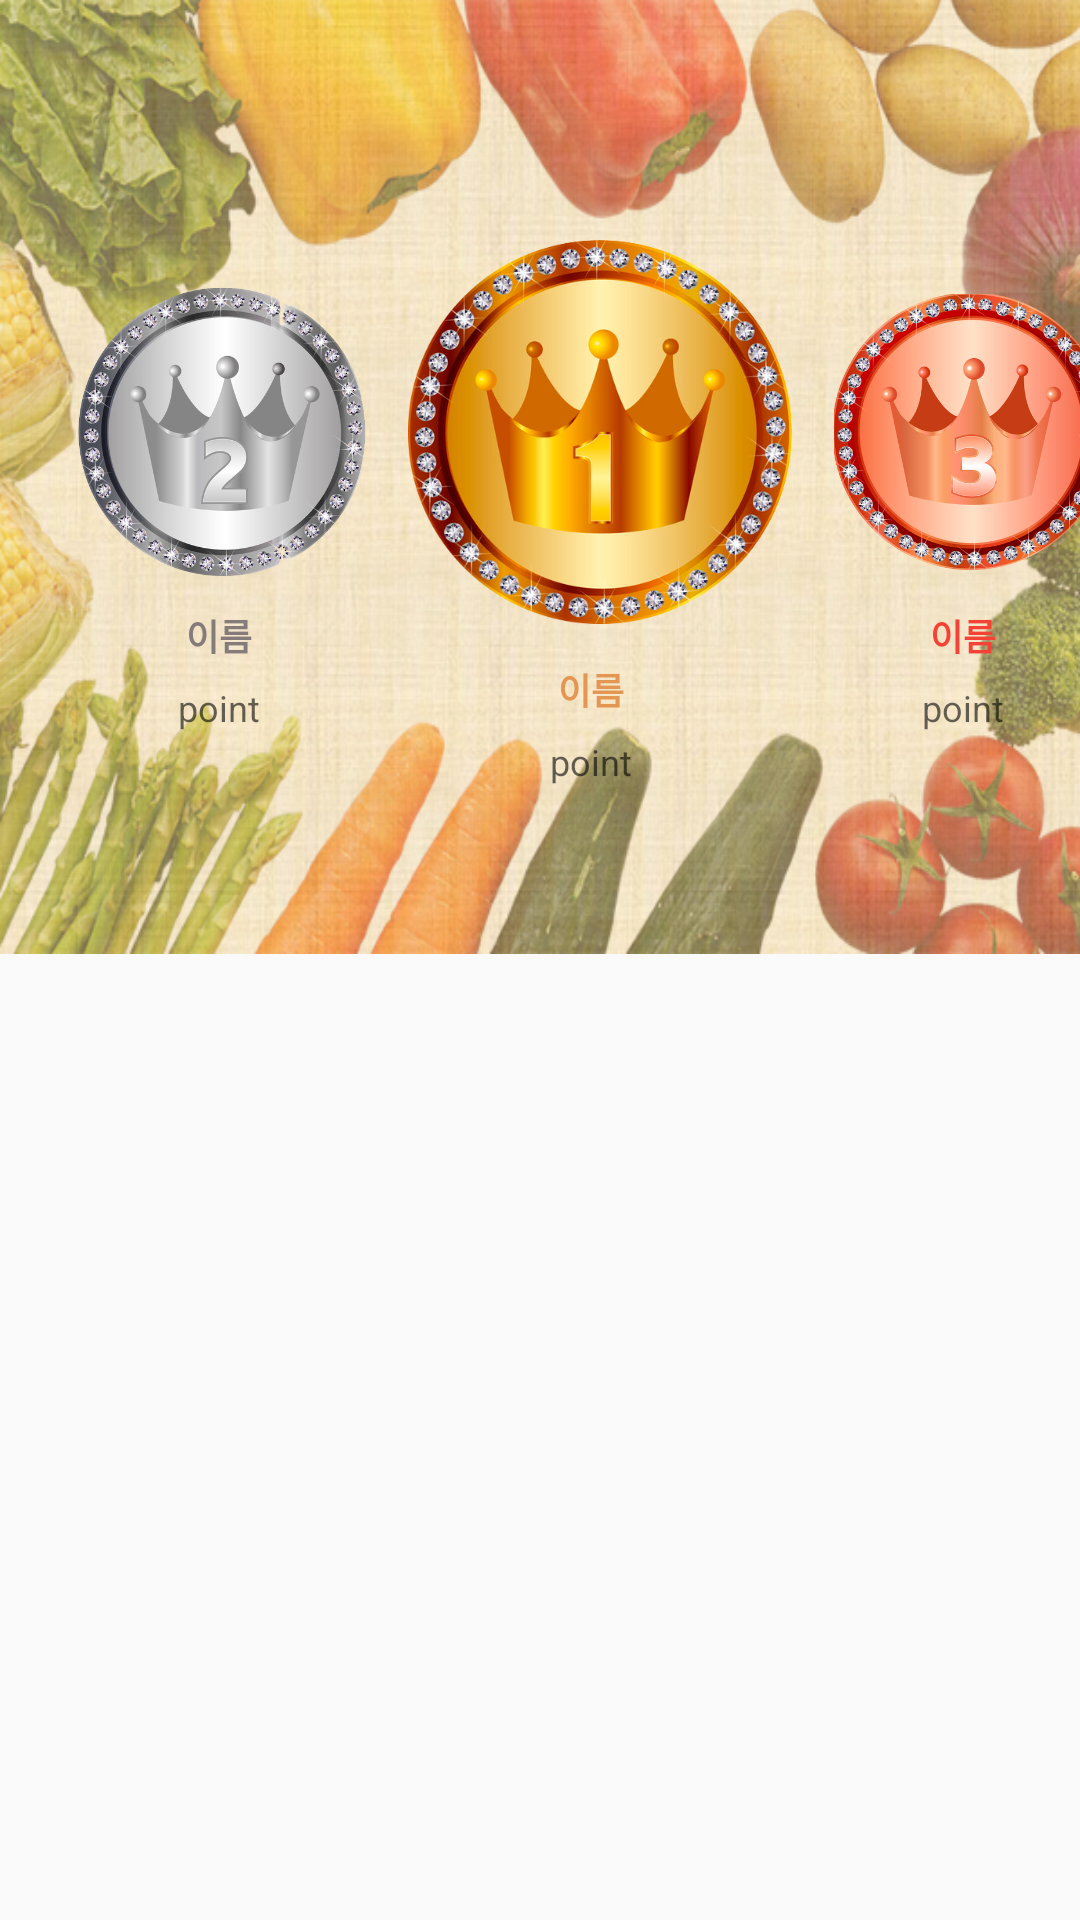

Screen size 1080 x 1920. Icon name, then its box in pixels as bbox=(x1, y1, x2, y2):
silver: bbox=(78, 288, 365, 576)
